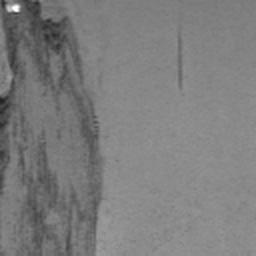Slag inclusion: (0, 0, 104, 256)
